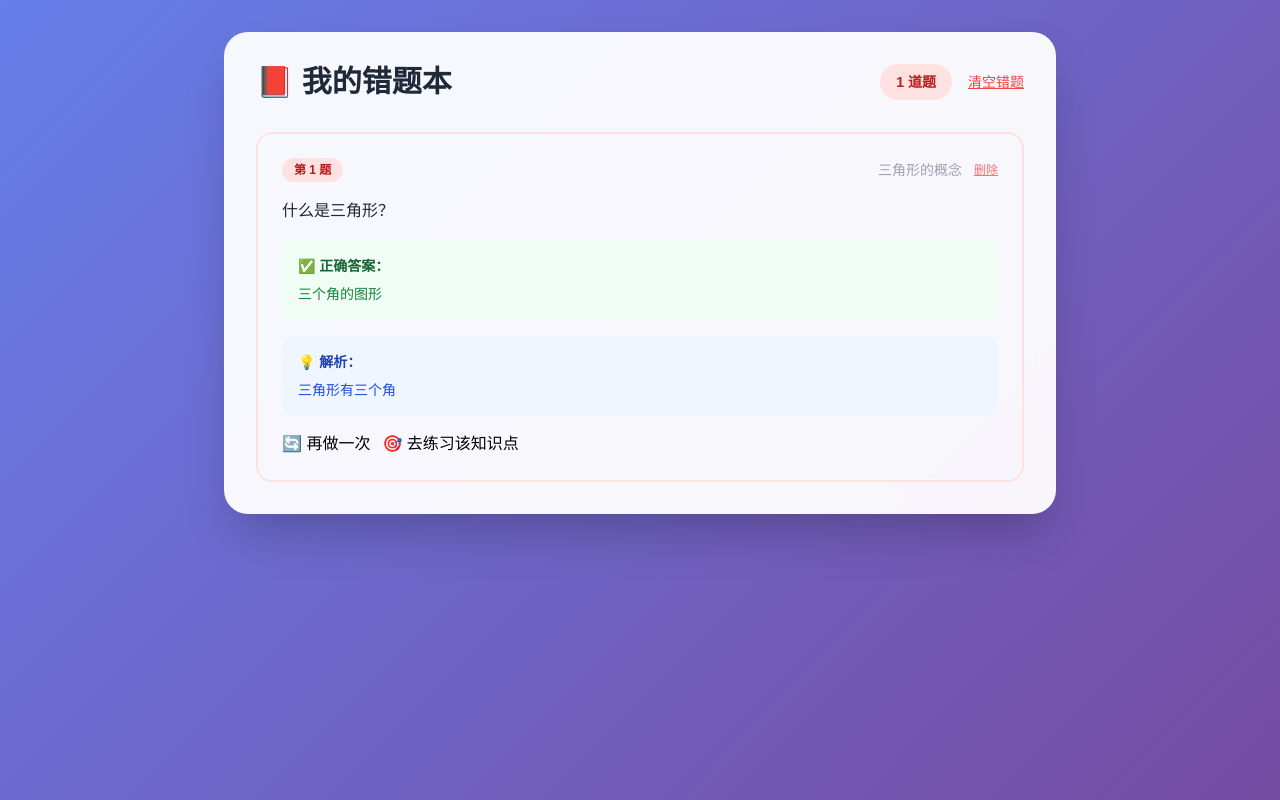
Test: WrongBook 页面测试 › 3. 点击清空错题
This screenshot has width=1280, height=800.
expect the text "什么是三角形？" is shown: met, box [282,202,394,219]
Click the button "清空错题" at (996, 82), box [968,64,1024,100]
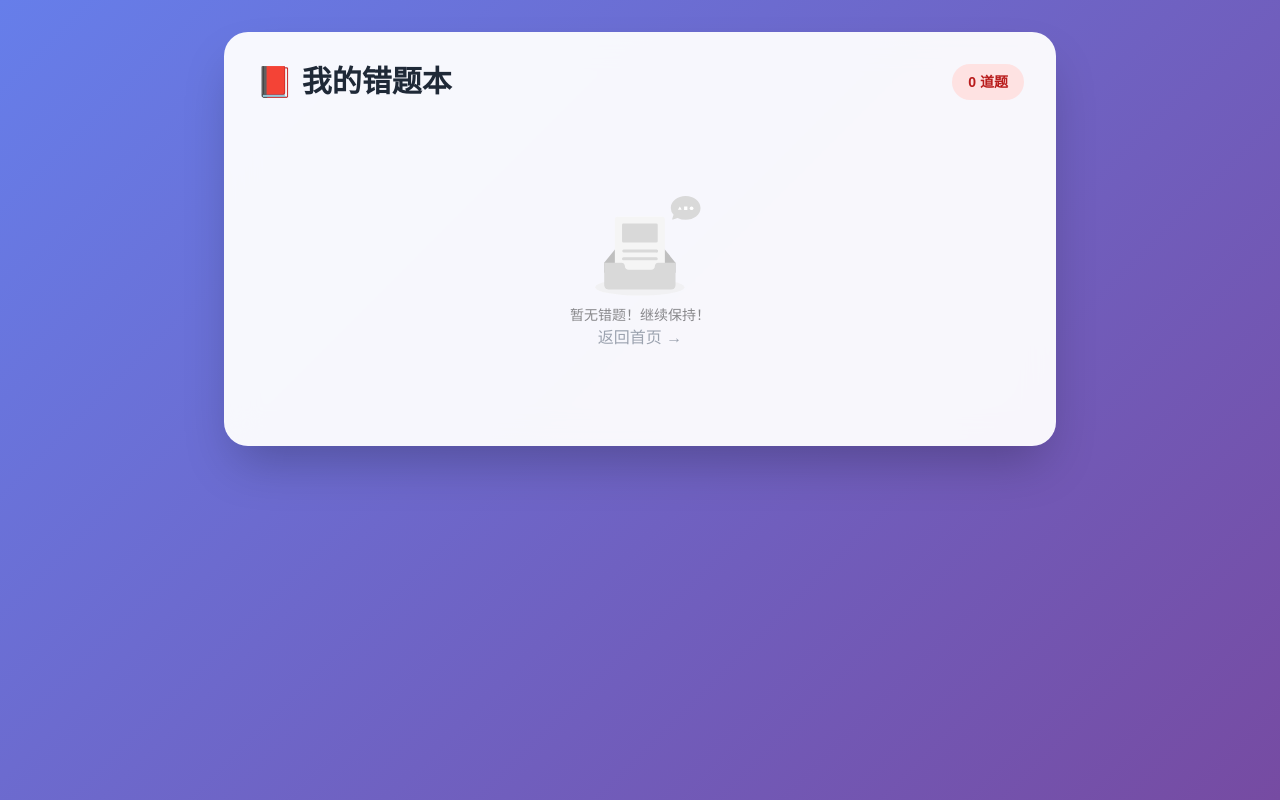
expect the text "暂无错题！继续保持！" is shown: met, box [570,306,710,323]
